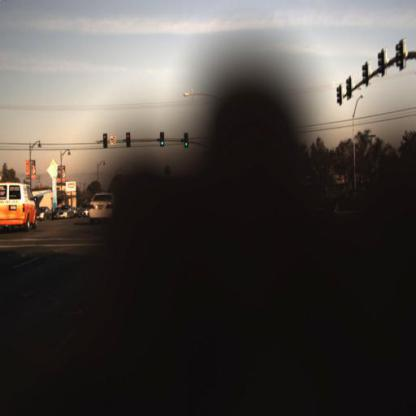car: (10, 187, 44, 227)
trafficLight: (124, 134, 132, 160)
trafficLight-Green: (179, 133, 193, 165), (157, 135, 165, 159)
trafficLight-RedLeft: (100, 132, 110, 159)
